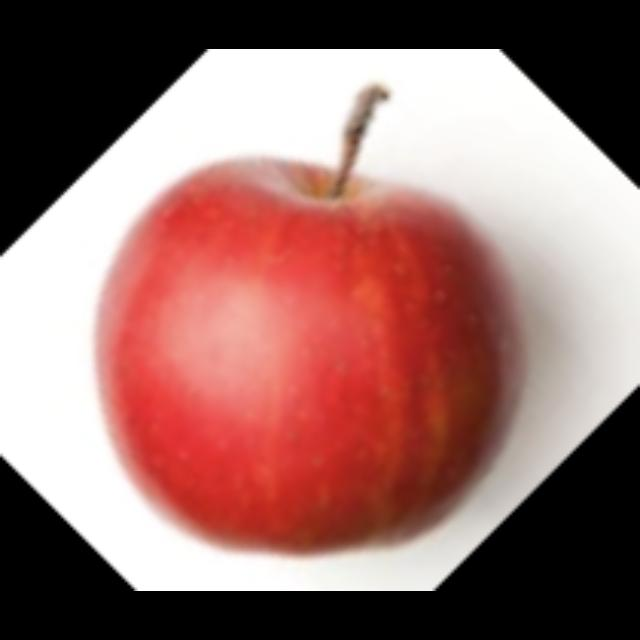Apel Segar: (86, 84, 526, 548)
